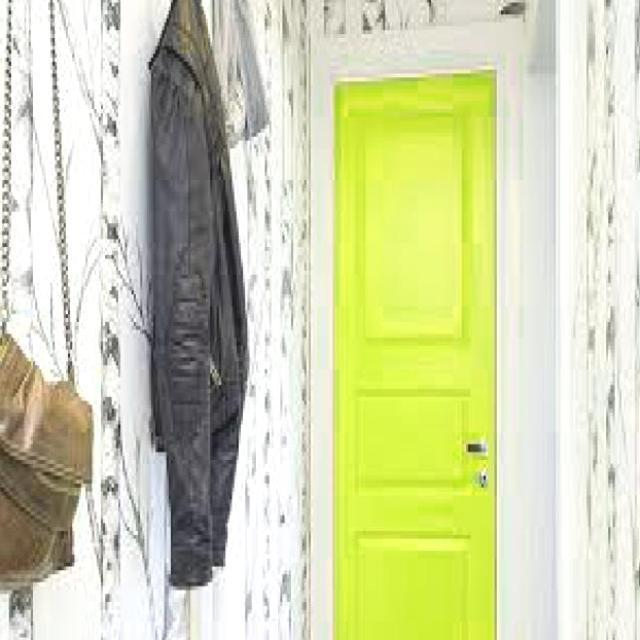door: (331, 67, 498, 639)
